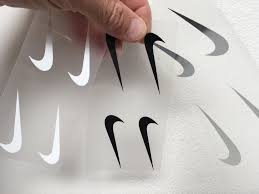nike: (193, 100, 248, 178), (165, 5, 233, 64), (94, 105, 143, 174), (32, 95, 73, 176), (65, 9, 100, 97), (102, 27, 139, 102), (135, 27, 174, 95), (144, 35, 201, 80), (25, 4, 59, 78), (133, 115, 171, 177), (1, 87, 31, 161)
